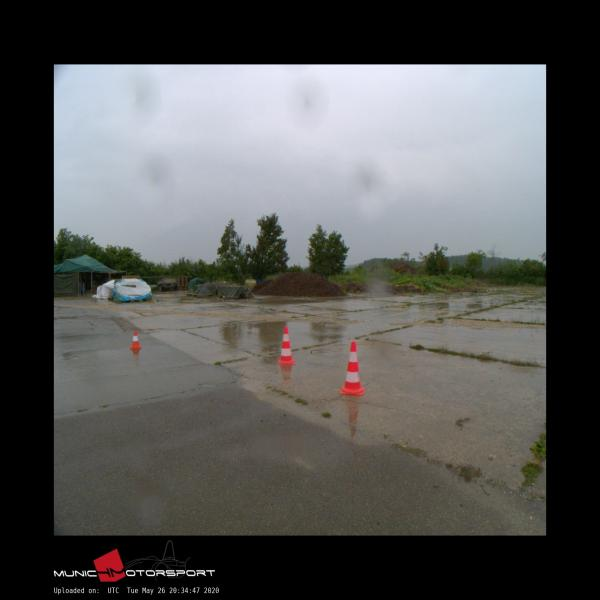large_orange_cone: (340, 341, 365, 395), (278, 326, 294, 364)
orange_cone: (130, 329, 141, 349)
